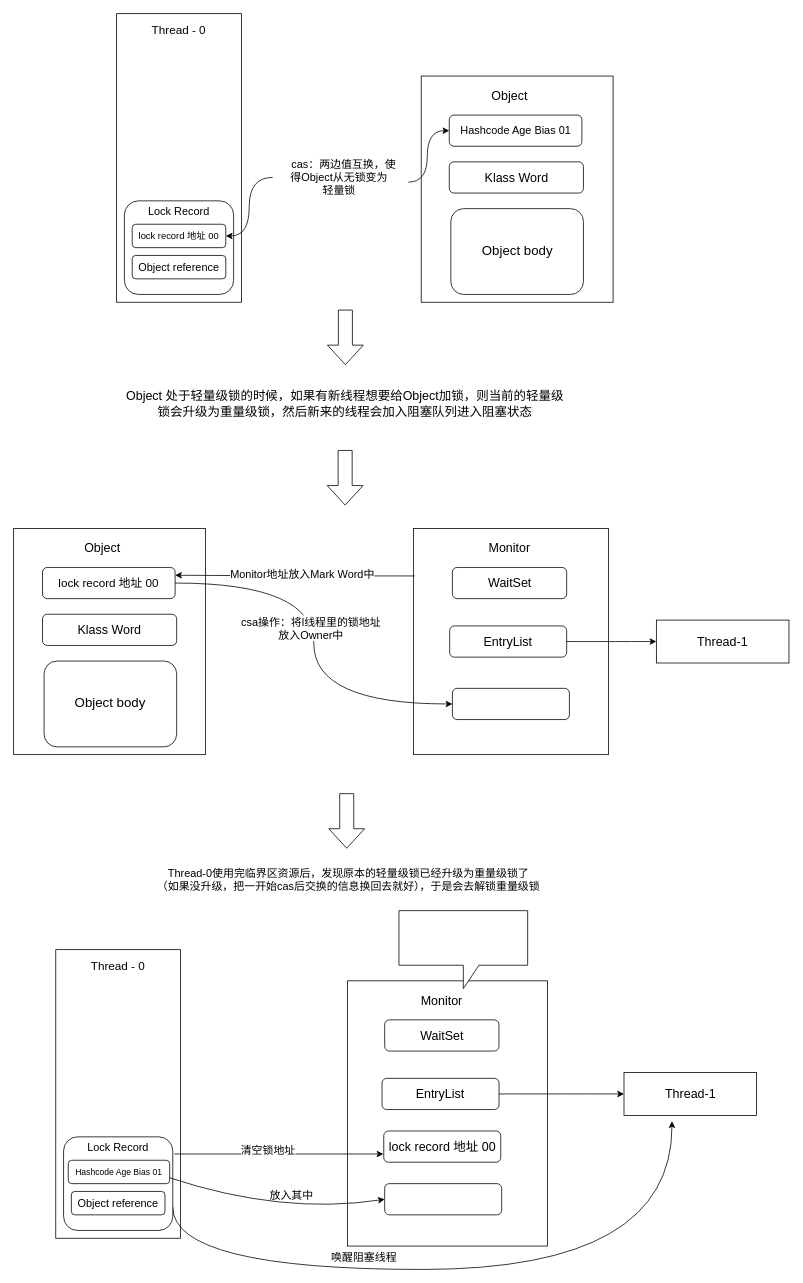
Image size: 803x1283. Some labels were removed from this diagram. Here are the shapes that lost their labels. From the top down, the box of each, then its label:
(452, 688, 569, 720): Owner
(398, 910, 528, 989): 重量级锁的操作需切换操作系统核心态
(384, 1183, 502, 1215): Object Mark Word
